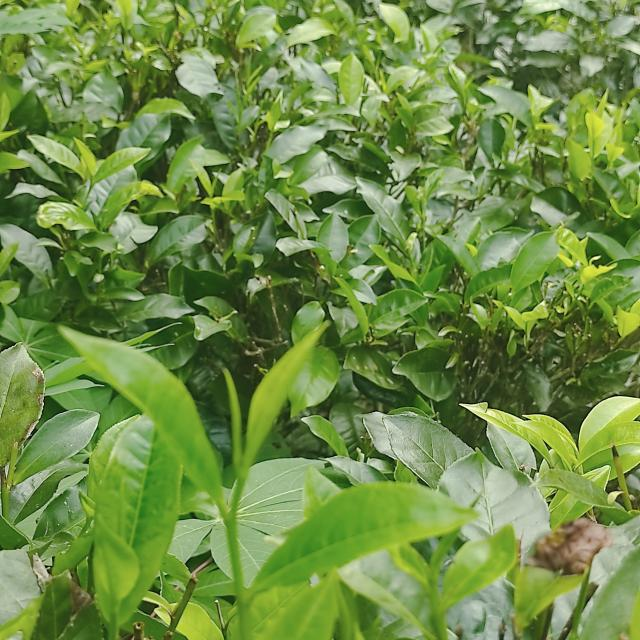unopened_leaf: (422, 488, 489, 592), (220, 364, 248, 478), (205, 165, 226, 200)
